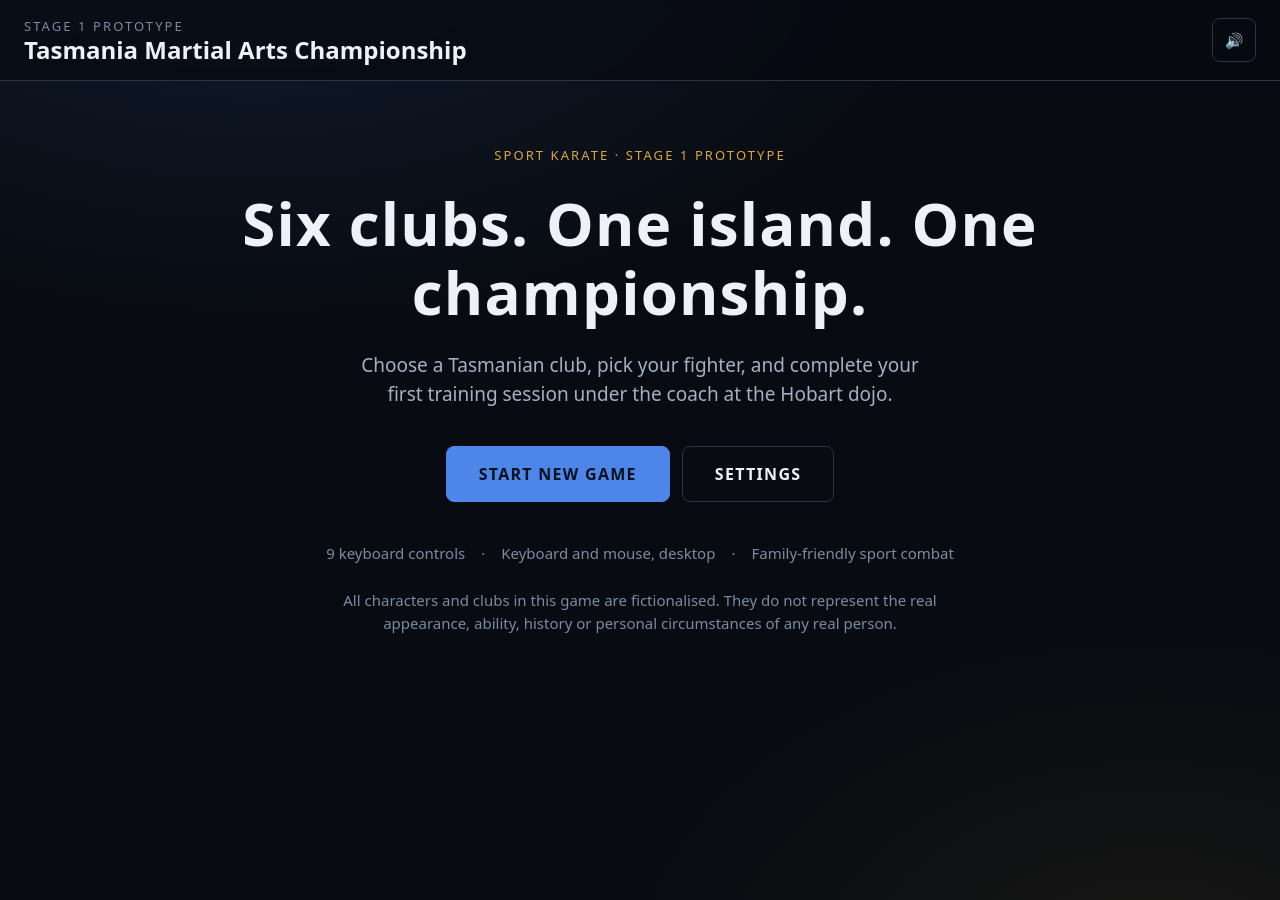
Scenario: fighter selection › updates the profile panel when a fighter is highlighted
Click the button with test id "start-game": (558, 474) top-left (446, 446), bottom-right (670, 502)
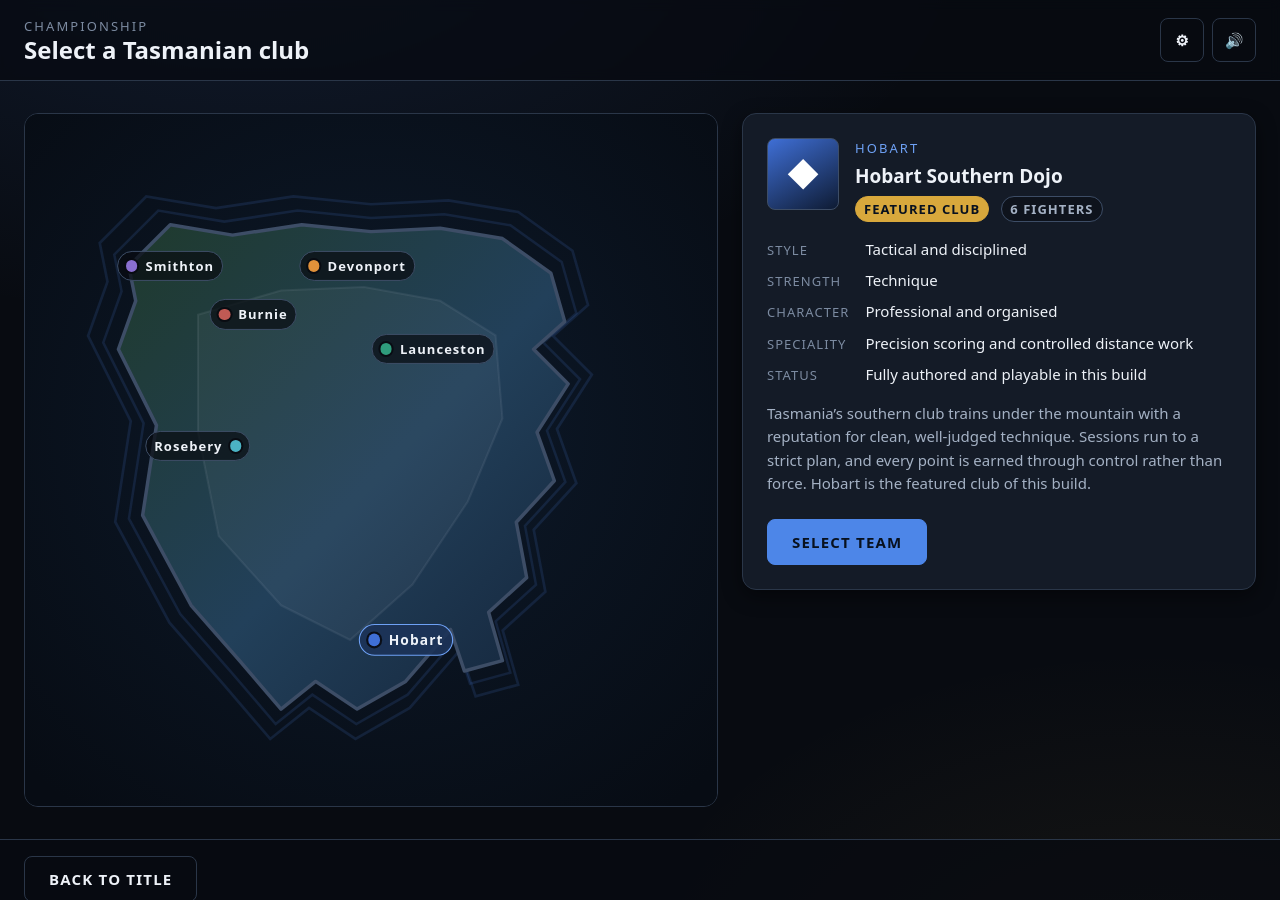
Click the button with test id "select-team": (847, 542) top-left (767, 519), bottom-right (928, 565)
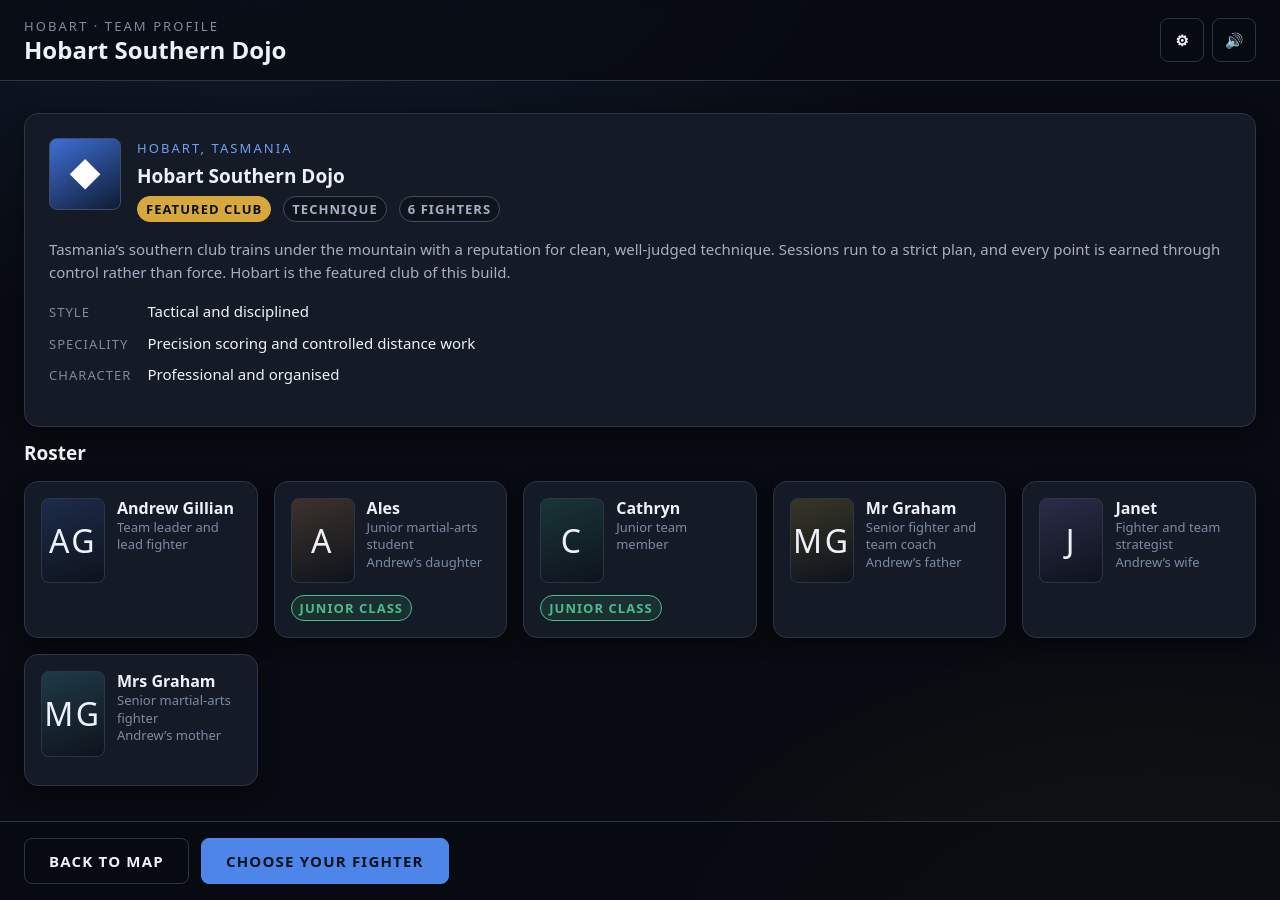
Click the button with test id "view-roster": (325, 861) top-left (201, 838), bottom-right (449, 884)
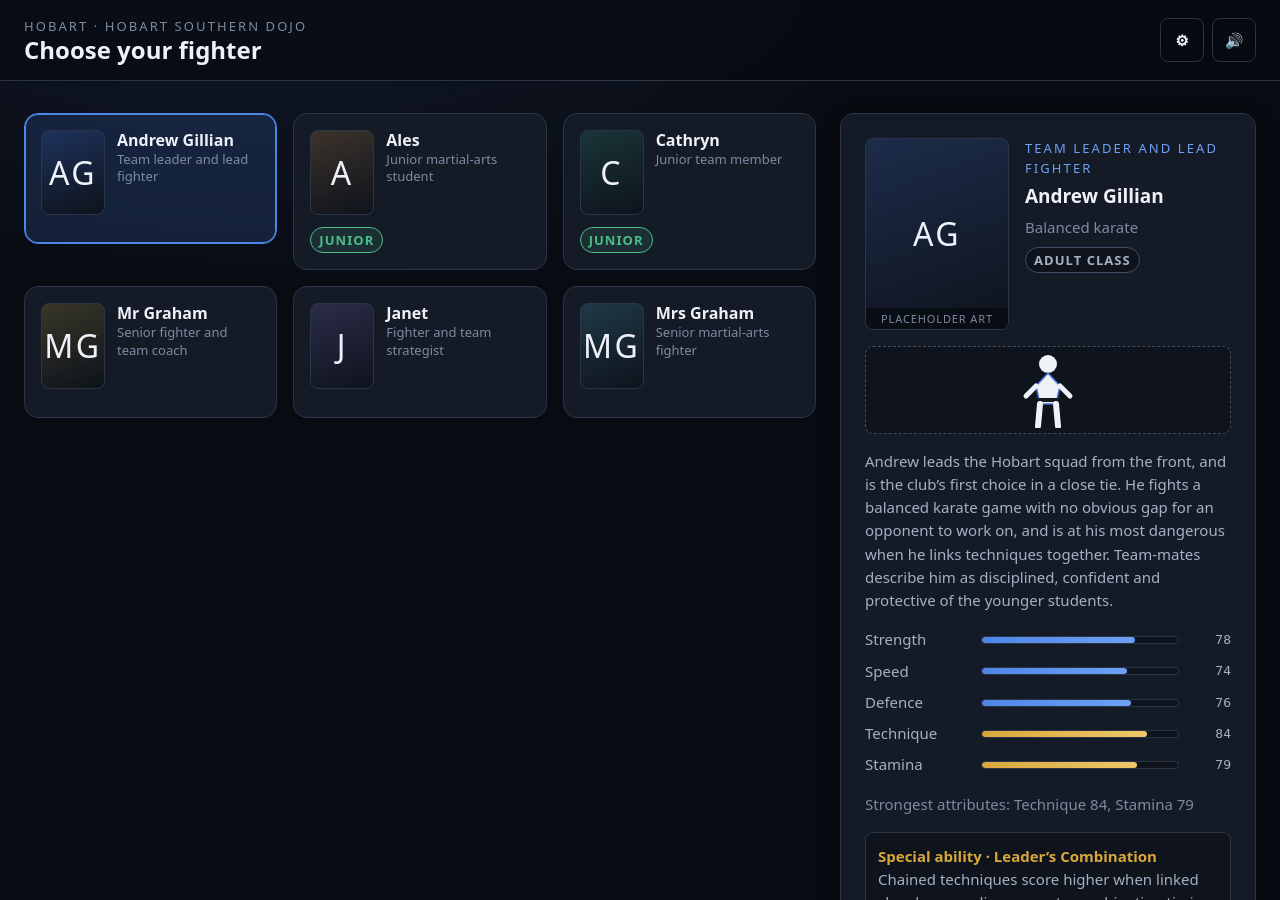
Click the button with test id "fighter-card-cathryn": (689, 191) top-left (563, 113), bottom-right (816, 270)
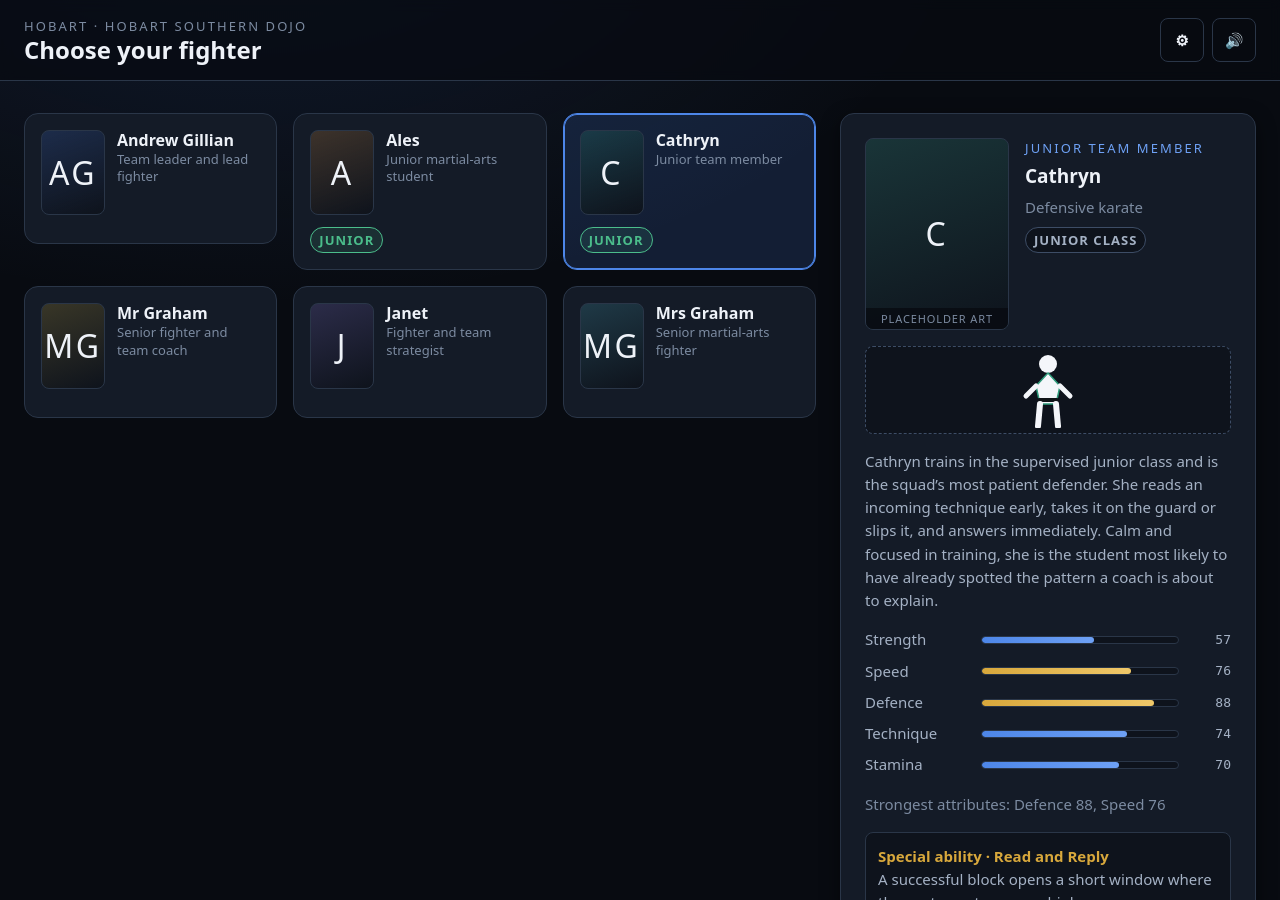
Check: the heading "Cathryn" is shown, box top-left (1025, 163), bottom-right (1101, 189)
Check: the text "Defensive karate" is shown, box top-left (1025, 197), bottom-right (1143, 217)
Check: the text "Special ability · Read and Reply" is shown, box top-left (878, 846), bottom-right (1109, 866)
